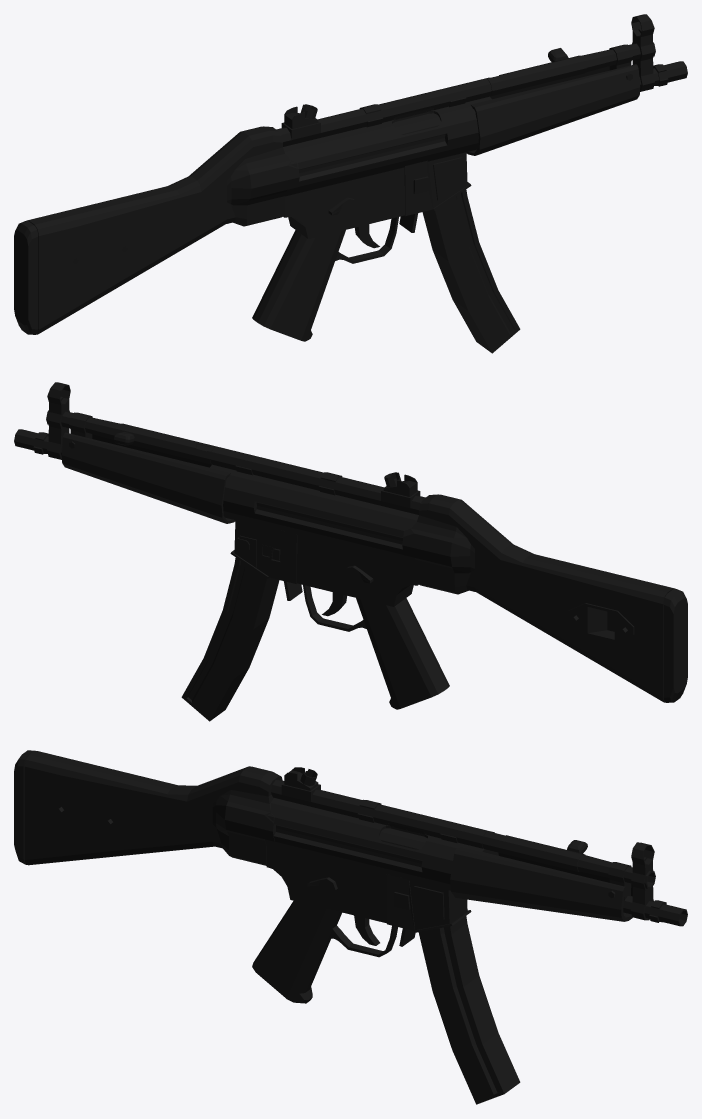
3 renders of one model, top to bottom at view 1: azimuth 30°, elevation 25°; view 2: azimuth 150°, elevation 25°; view 3: azimuth 330°, elevation 25°, orthographic.
Parts seen in each view (by area): view 1: Base, Stock, Handguard, Mag, Chamber Cover; view 2: Base, Stock, Handguard, Mag, Cocking Handle; view 3: Base, Stock, Mag, Handguard, Chamber Cover.
Part boxes in pixels (x1,y1,x2,y2): Base: (252,14,687,341); Stock: (14,126,299,334); Handguard: (466,64,639,155); Mag: (422,189,520,353); Chamber Cover: (392,113,441,134); Base: (14,382,449,709); Stock: (402,494,687,702); Handguard: (61,432,235,523); Mag: (181,557,279,721); Cocking Handle: (114,431,208,456); Base: (252,767,687,1003); Stock: (14,750,282,865); Mag: (418,916,520,1104); Handguard: (450,846,632,921); Chamber Cover: (379,828,427,849).
Bounding box in the file's own units: 201 × 84.98 × 15.84.
